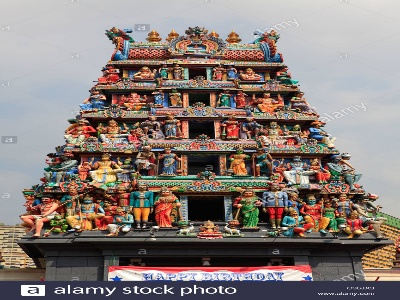gopura: (47, 28, 381, 241)
